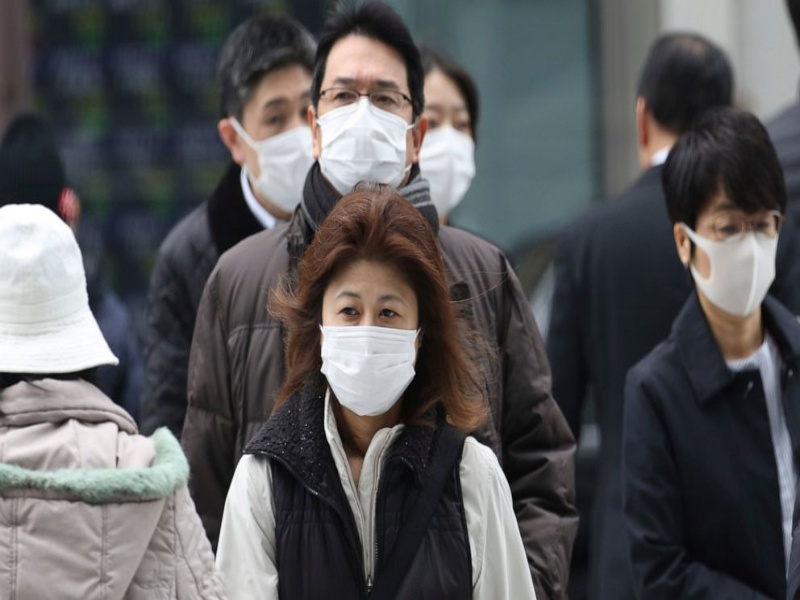ManaoArotava: (317, 238, 433, 435), (311, 28, 423, 215), (678, 145, 779, 339)
